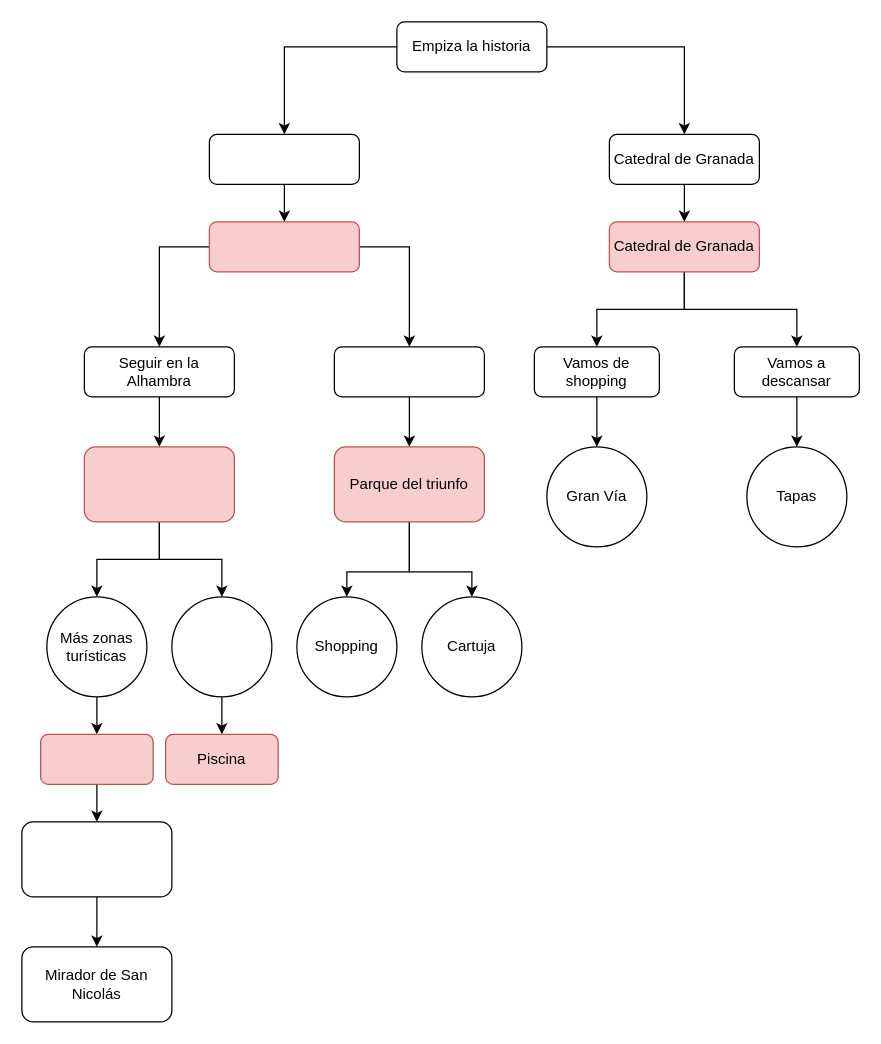
Image size: 881x1044. Some labels were removed from this diagram. The centre of each missing label's shape, as x and y in pixels:
Otro lugar diferente: [408,371]
Patio de los leones: [158,484]
Patio típico: [283,246]
Quiero más: [96,859]
Realejo: [96,758]
Relax, please: [221,646]
Visita a la Alhambra: [283,158]
